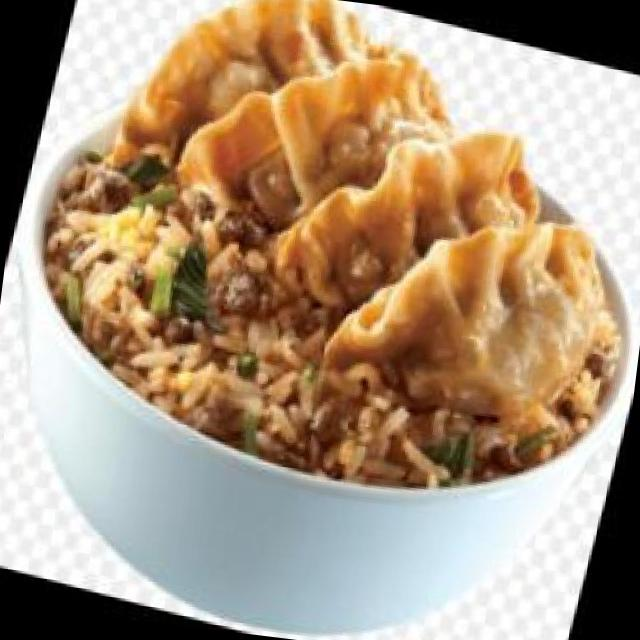fried_dumplings: (56, 0, 640, 447)
